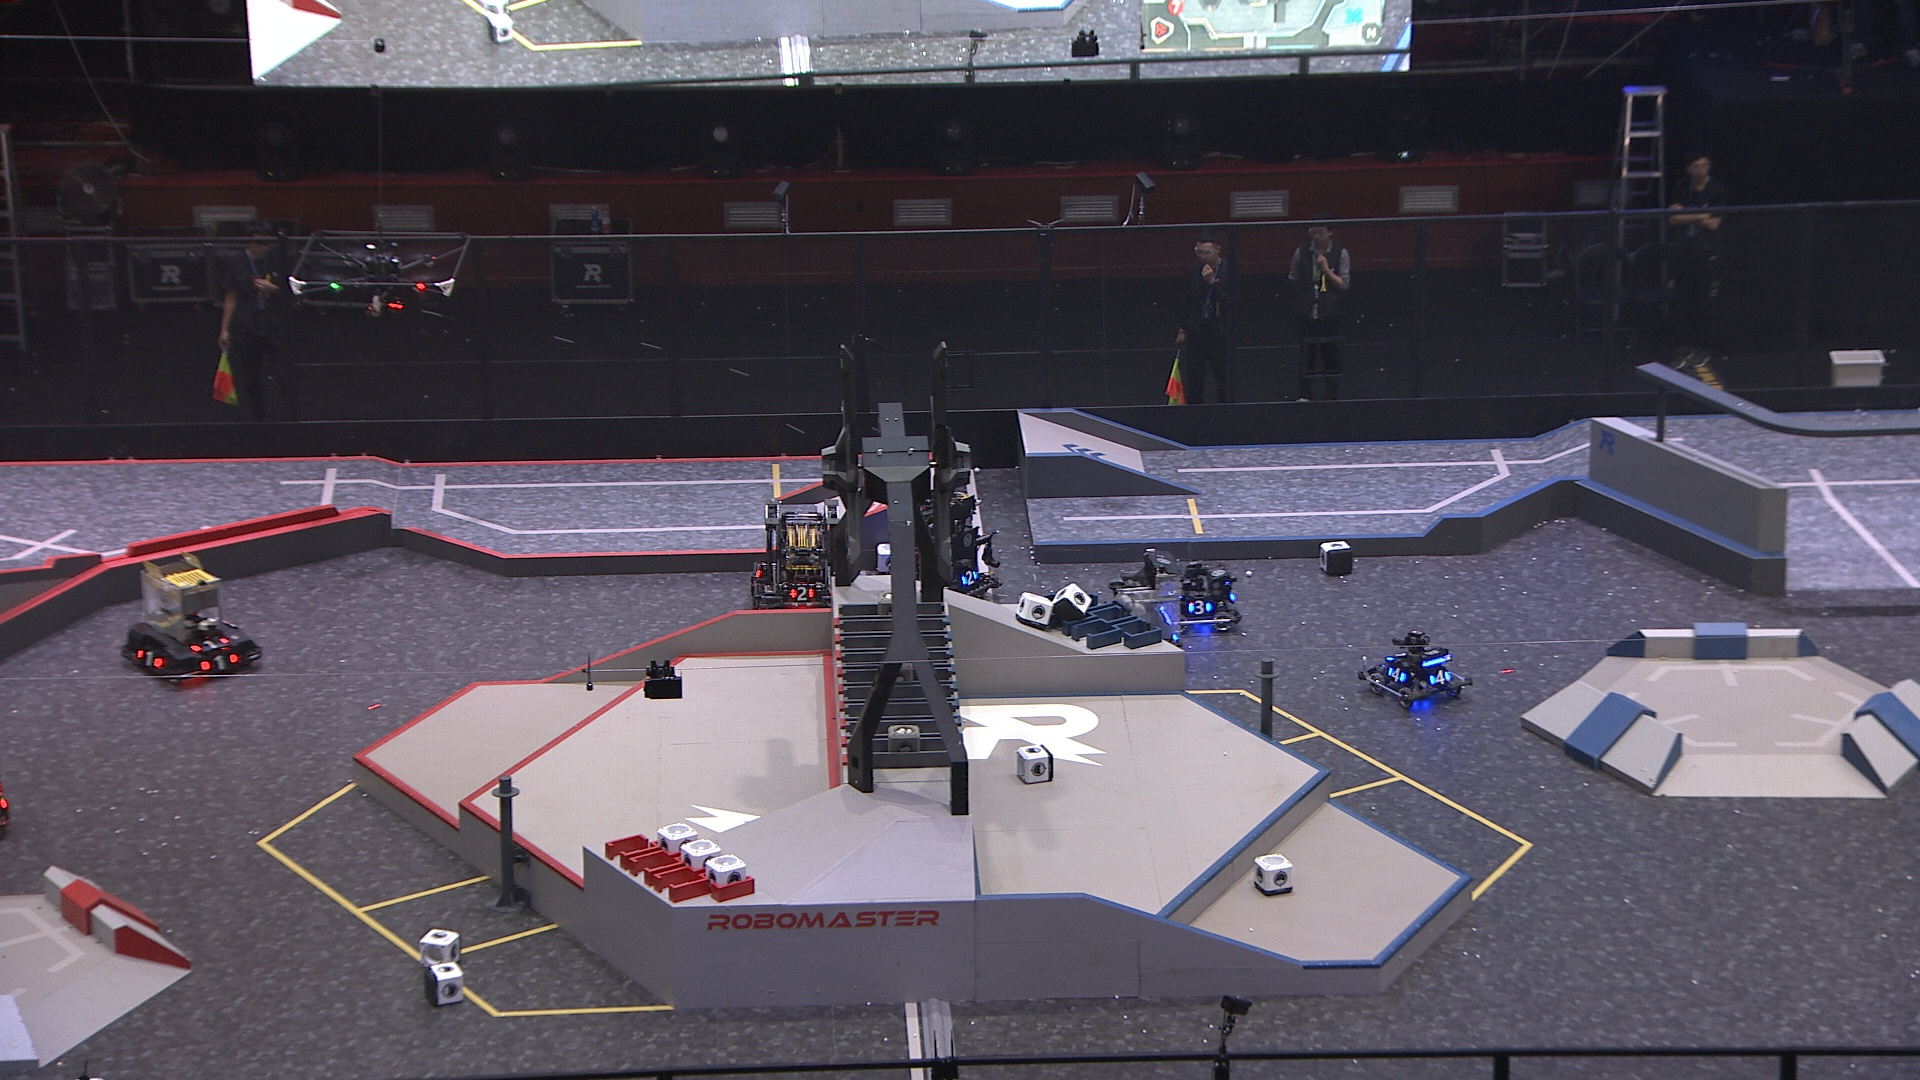armor: (202, 654, 239, 675), (136, 646, 162, 671), (193, 637, 228, 651), (789, 585, 816, 603), (1187, 597, 1212, 616), (1386, 666, 1406, 684), (960, 568, 981, 585), (1386, 650, 1408, 665), (1429, 669, 1449, 684)
car: (119, 555, 258, 683), (880, 485, 1005, 609), (746, 496, 852, 618), (1106, 547, 1191, 657), (1360, 632, 1472, 709), (1156, 553, 1242, 638)
